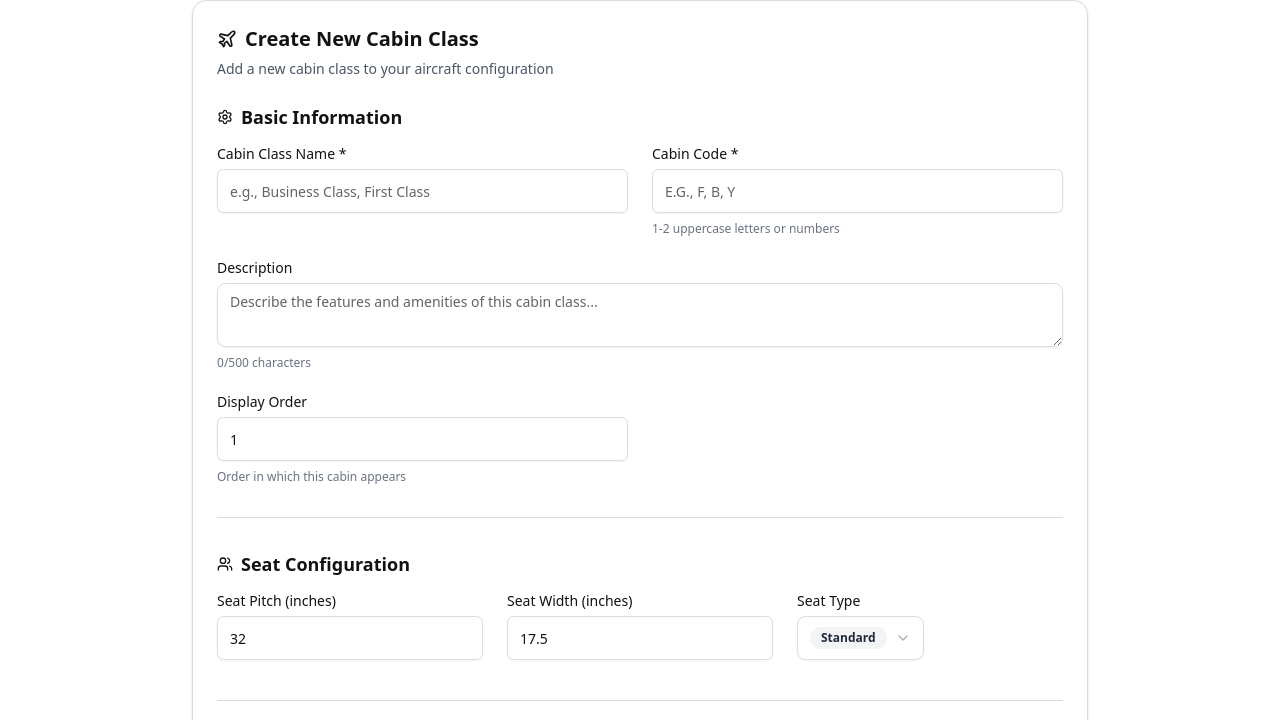
Test: CabinClassForm › Form Interactions › validates seat dimensions
This screenshot has width=1280, height=720.
Test invalid values
Replace the text in the number field labelled "Seat Pitch (inches)" with "20" at (350, 638), box [217,616,483,660]
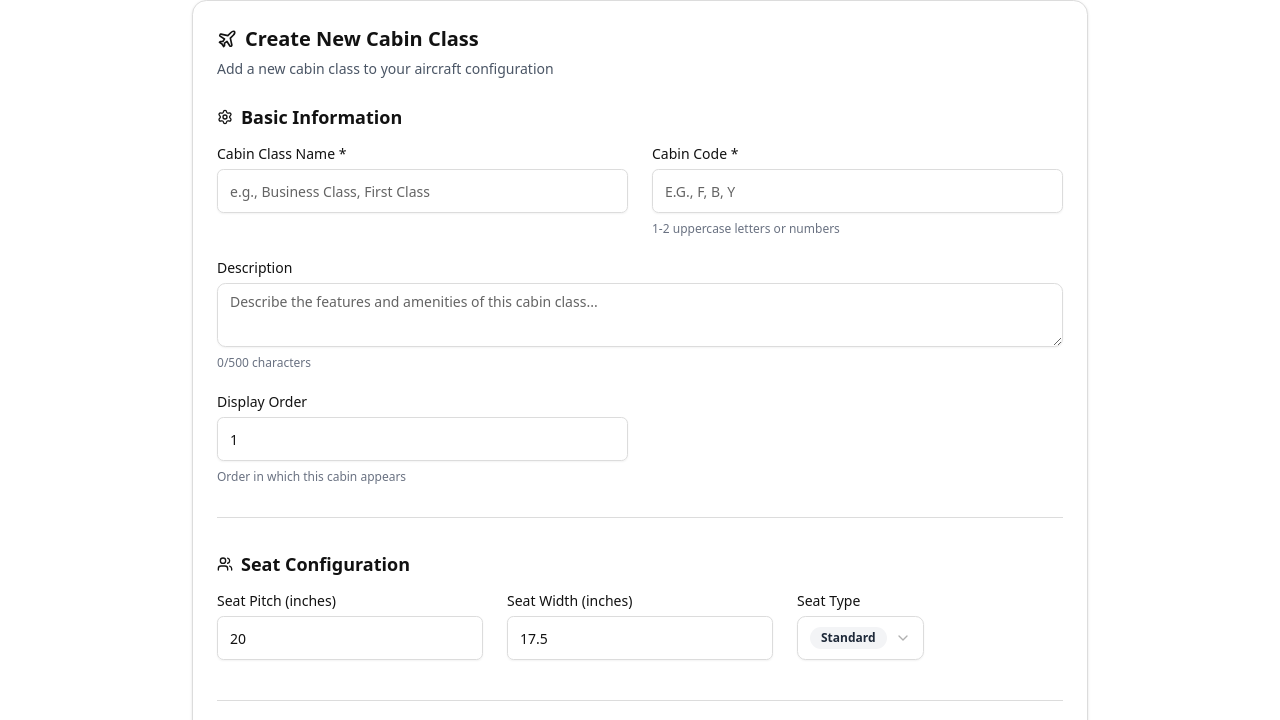
Replace the text in the number field labelled "Seat Width (inches)" with "10" at (640, 638), box [507,616,773,660]
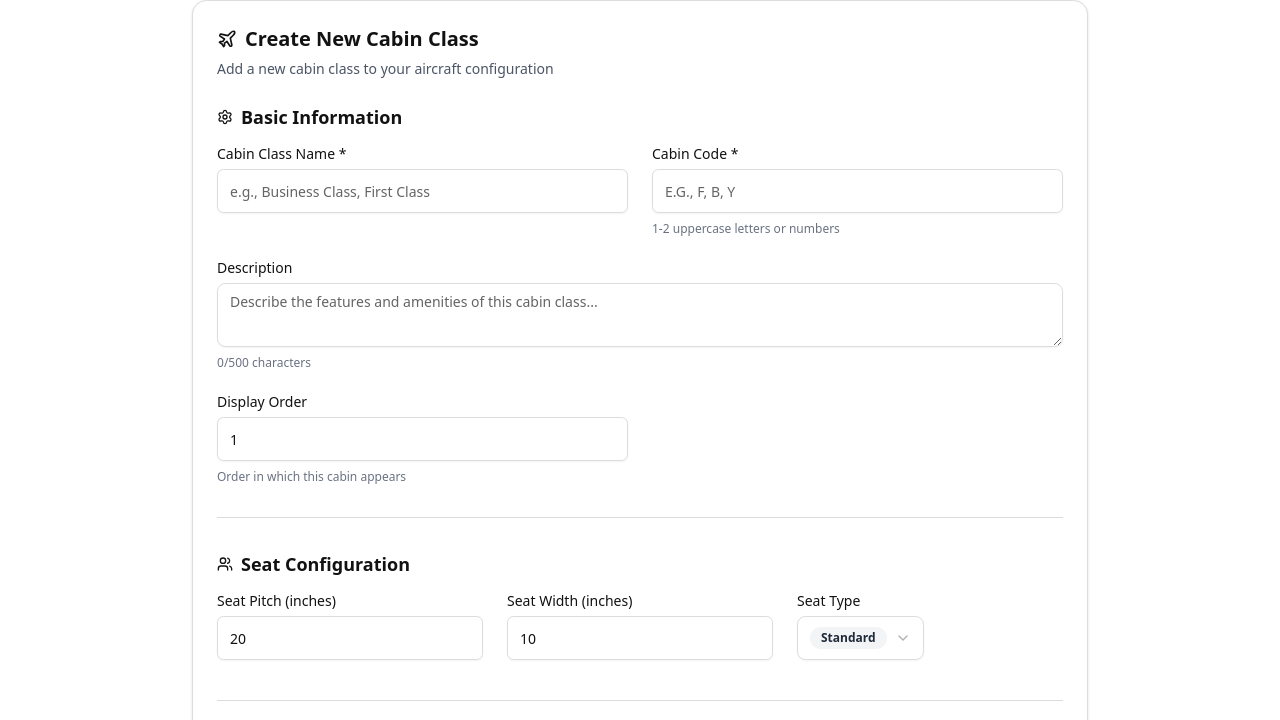
Leave the number field labelled "Seat Width (inches)", box [507,616,773,660]
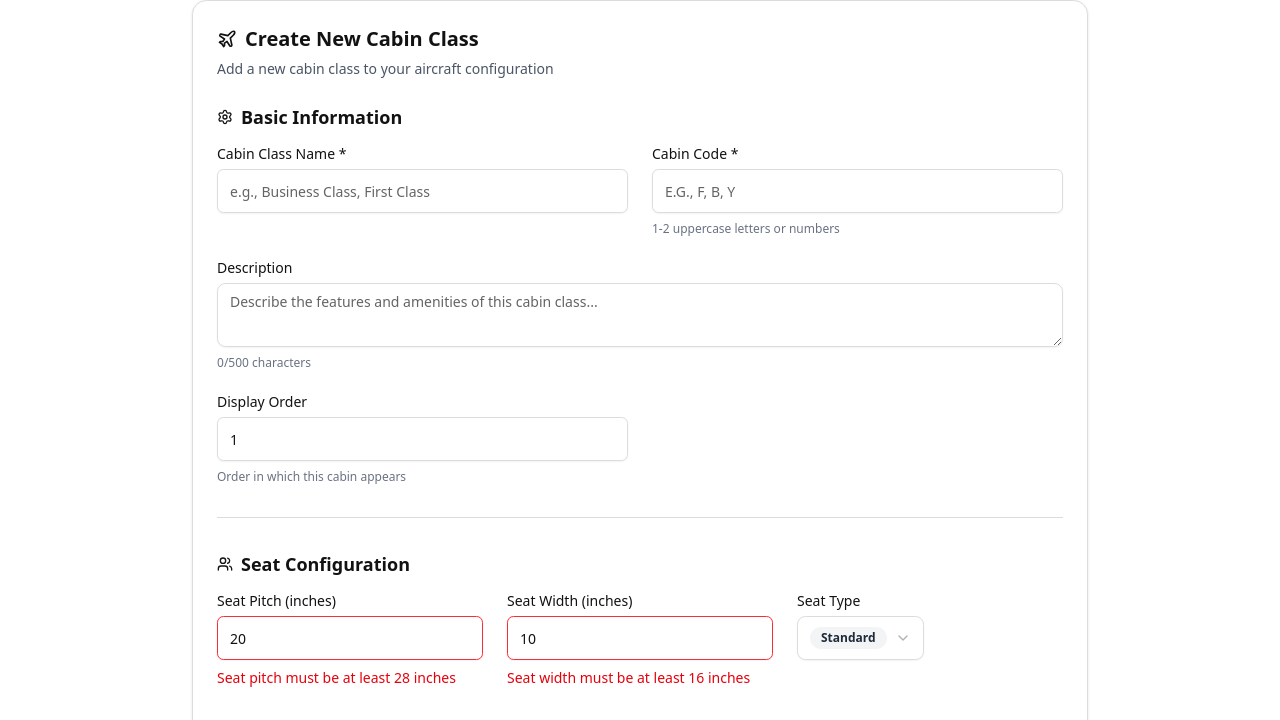
Check: the text "Seat pitch must be at least 28 inches" is shown, box [217,668,483,688]
Check: the text "Seat width must be at least 16 inches" is shown, box [507,668,773,688]
